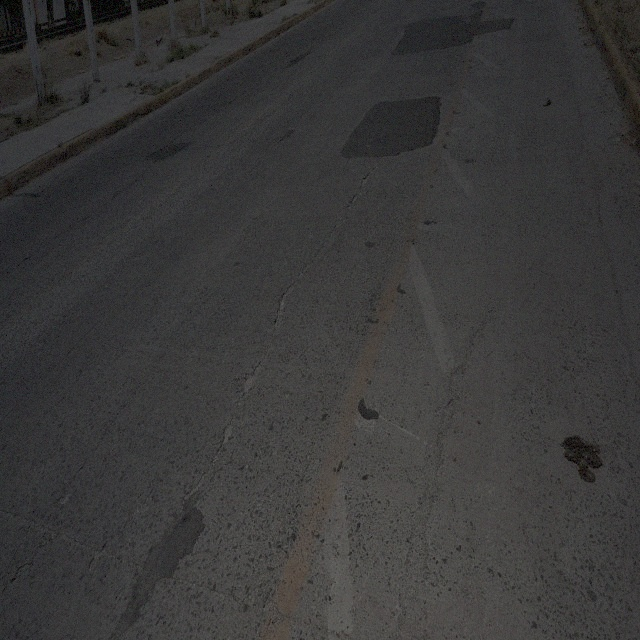pothole: (242, 362, 260, 396), (222, 416, 234, 445)
